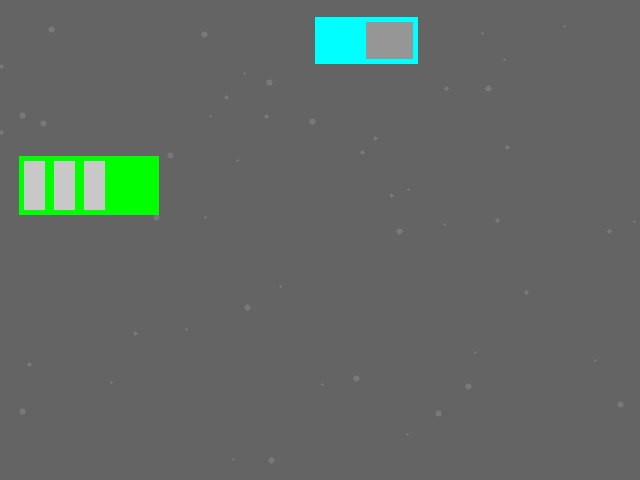bus: (19, 156, 158, 214)
truck: (315, 17, 417, 63)
